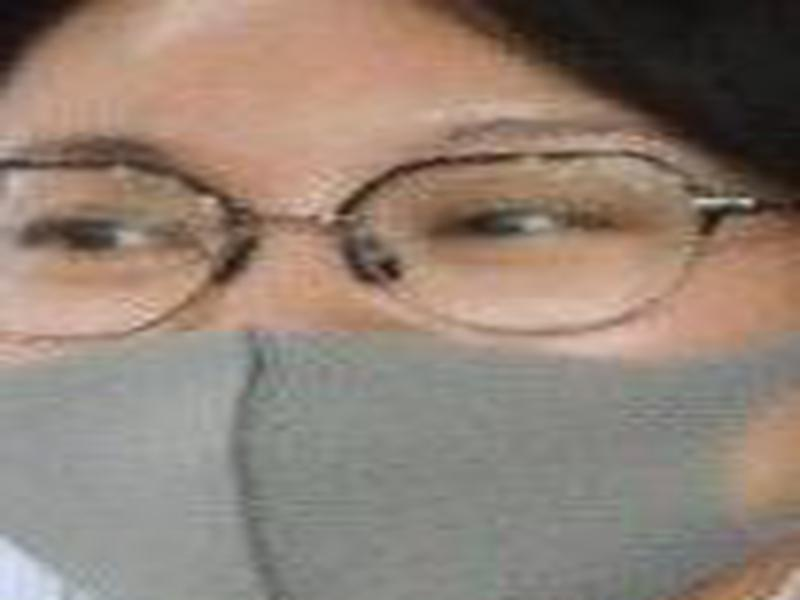with_mask: (1, 6, 795, 600)
